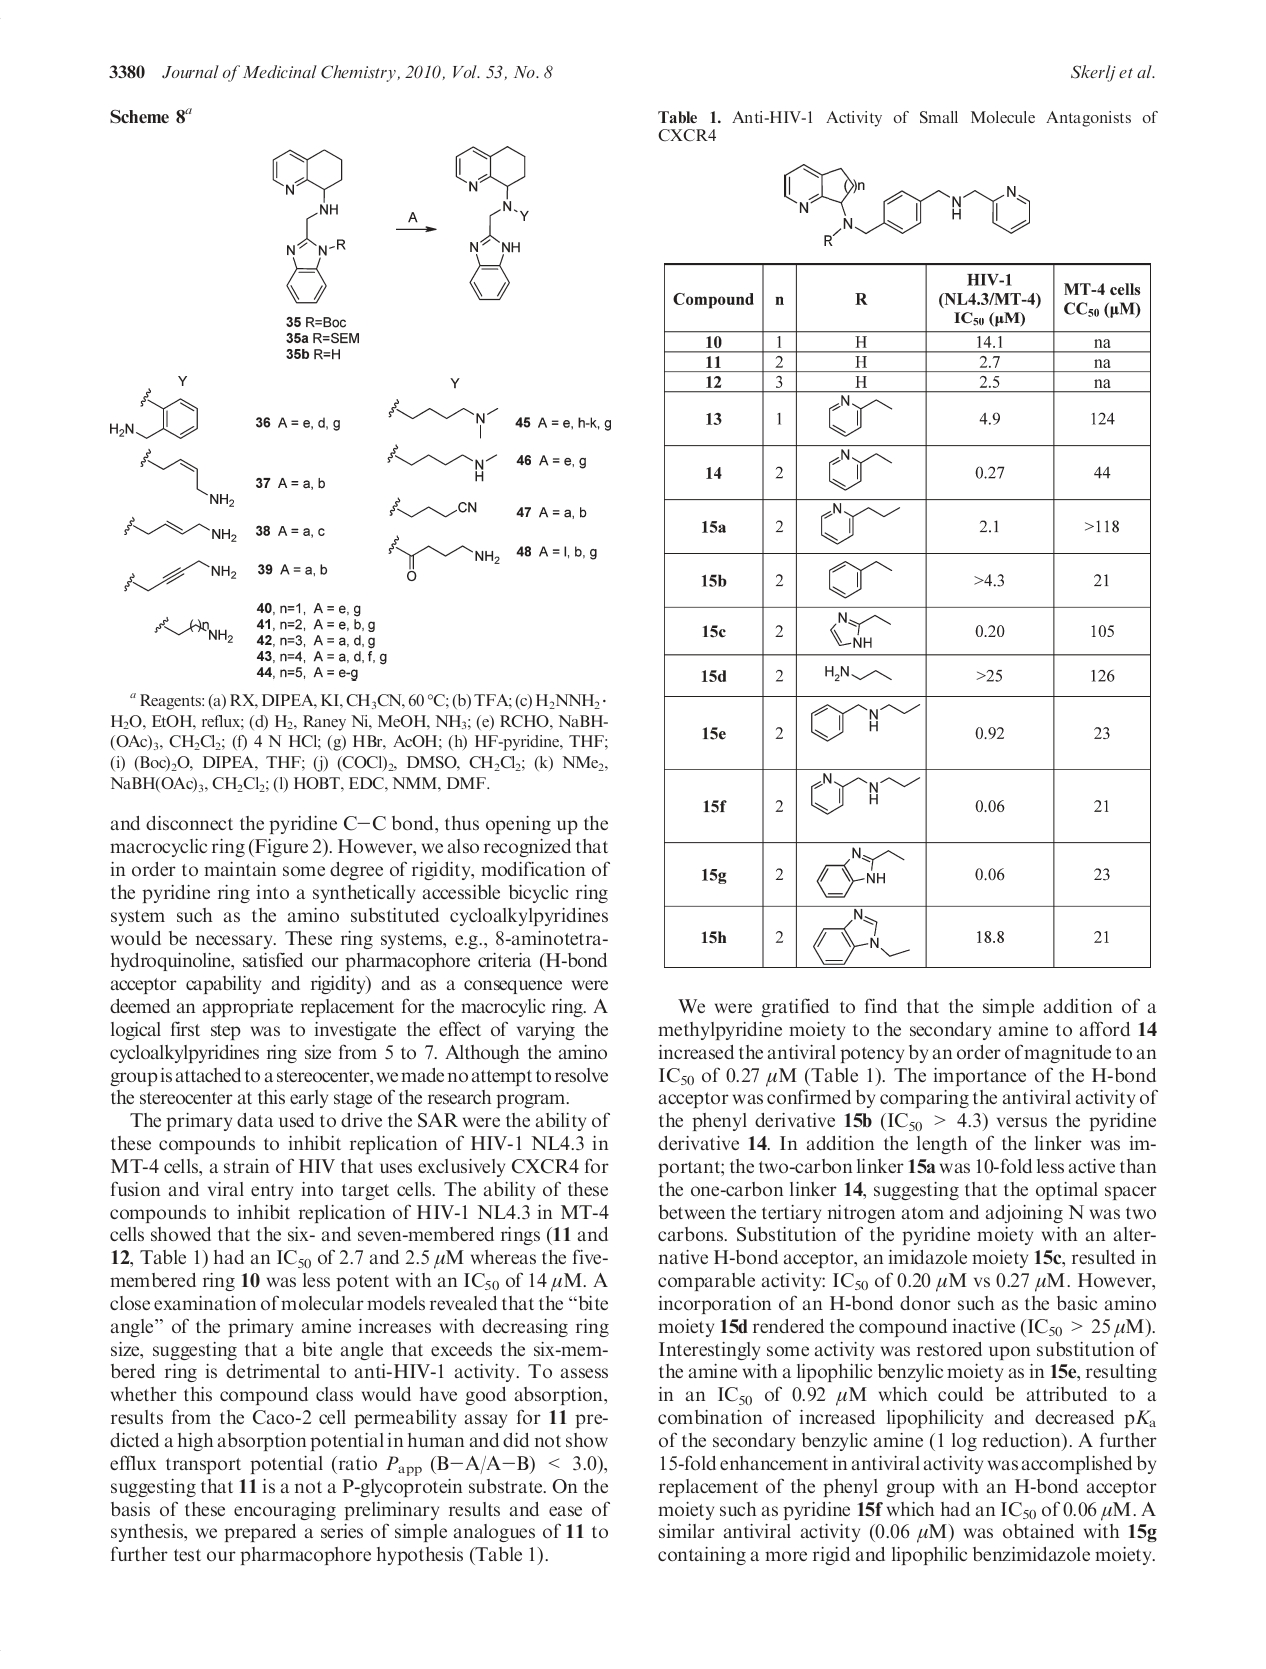exist_molecular: (778, 160, 1037, 249), (263, 140, 352, 309), (457, 138, 533, 307), (108, 370, 206, 449), (384, 527, 508, 582), (809, 906, 923, 964), (114, 551, 247, 600), (136, 451, 239, 513), (380, 436, 516, 483), (813, 844, 916, 898), (380, 394, 508, 436), (112, 517, 250, 555), (809, 698, 922, 743), (806, 770, 926, 813), (814, 500, 906, 549), (144, 609, 239, 652), (823, 553, 902, 602), (814, 449, 899, 493), (821, 394, 904, 438), (821, 609, 902, 652), (386, 488, 481, 521), (821, 656, 895, 688)
